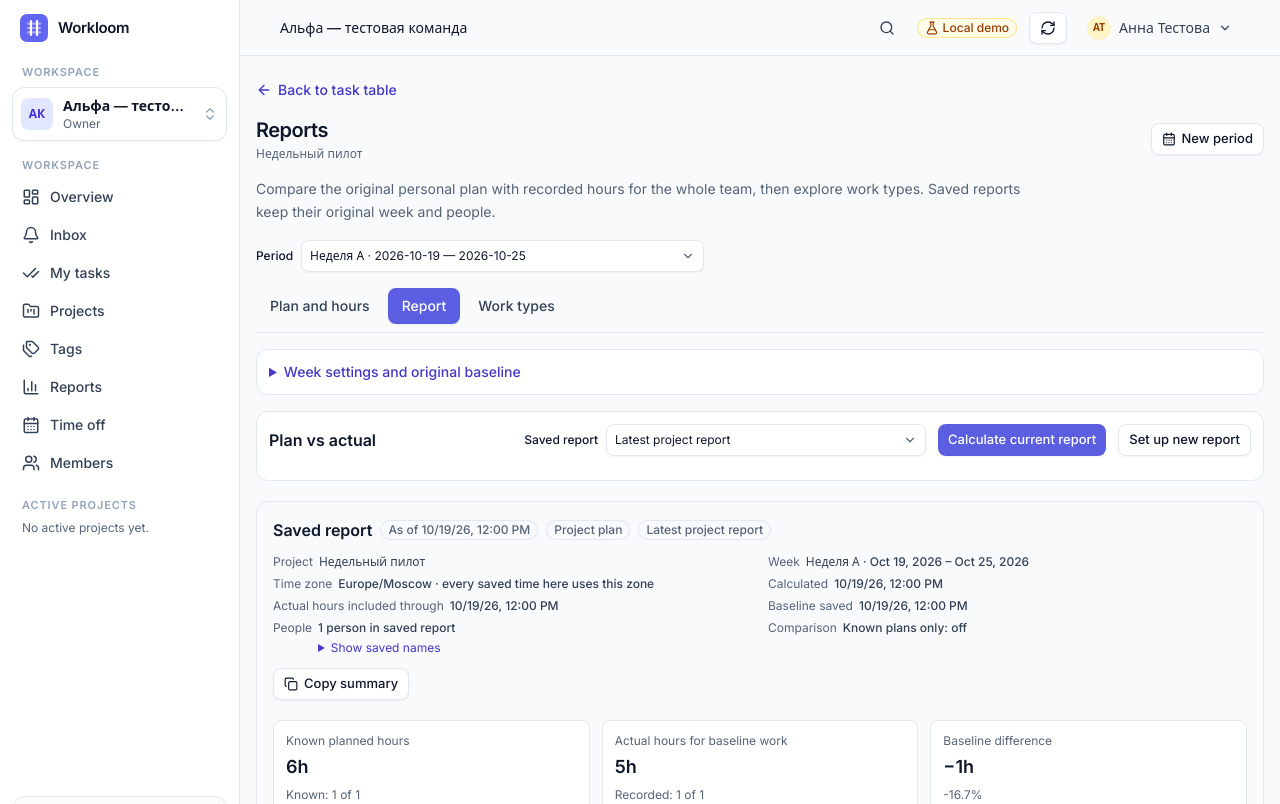
latest saved weekly report › hides the latest fallback for an unknown result, resumes without a run and retries the exact request
Check: the text "Latest project report" next to "Project plan" is shown, box [646, 522, 763, 536]
What coordinates should you click on to do the following:
click the button "Calculate current report"
I would click on:
 (1022, 440)
Its box is [938, 424, 1106, 456].
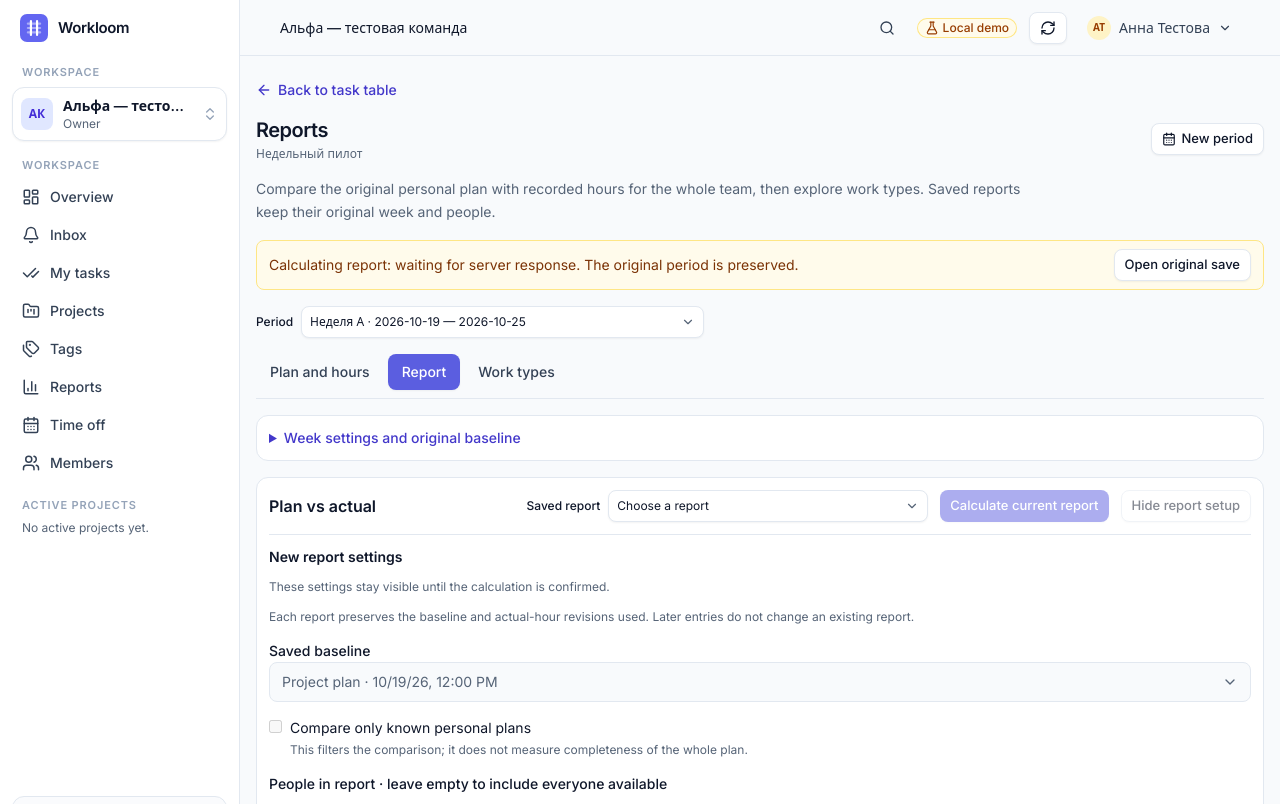
What coordinates should you click on to do the following:
click the dropdown named "Period"
I would click on:
 (503, 322)
Its box is [301, 306, 704, 338].
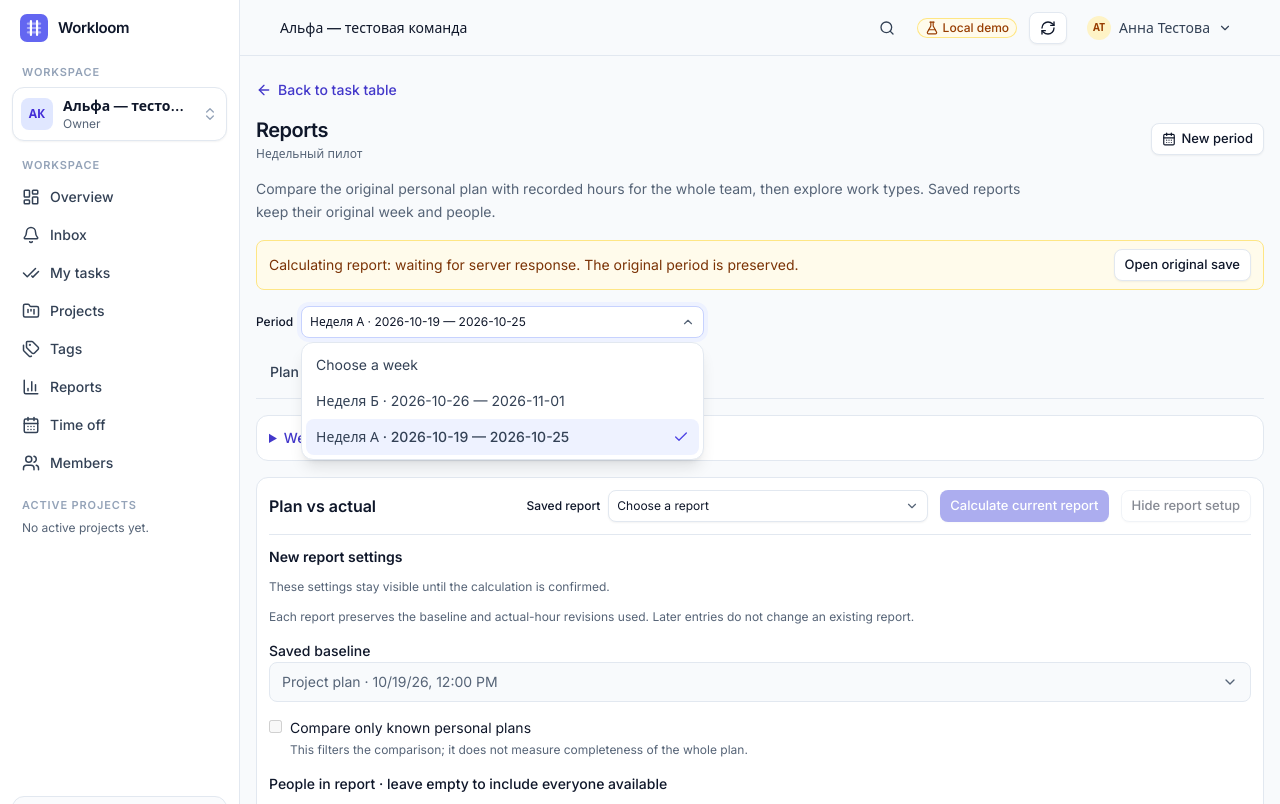
What coordinates should you click on to do the following:
click the option "Неделя Б · 2026-10-26 — 2026-11-01"
I would click on:
 (440, 400)
Its box is [316, 392, 565, 408].
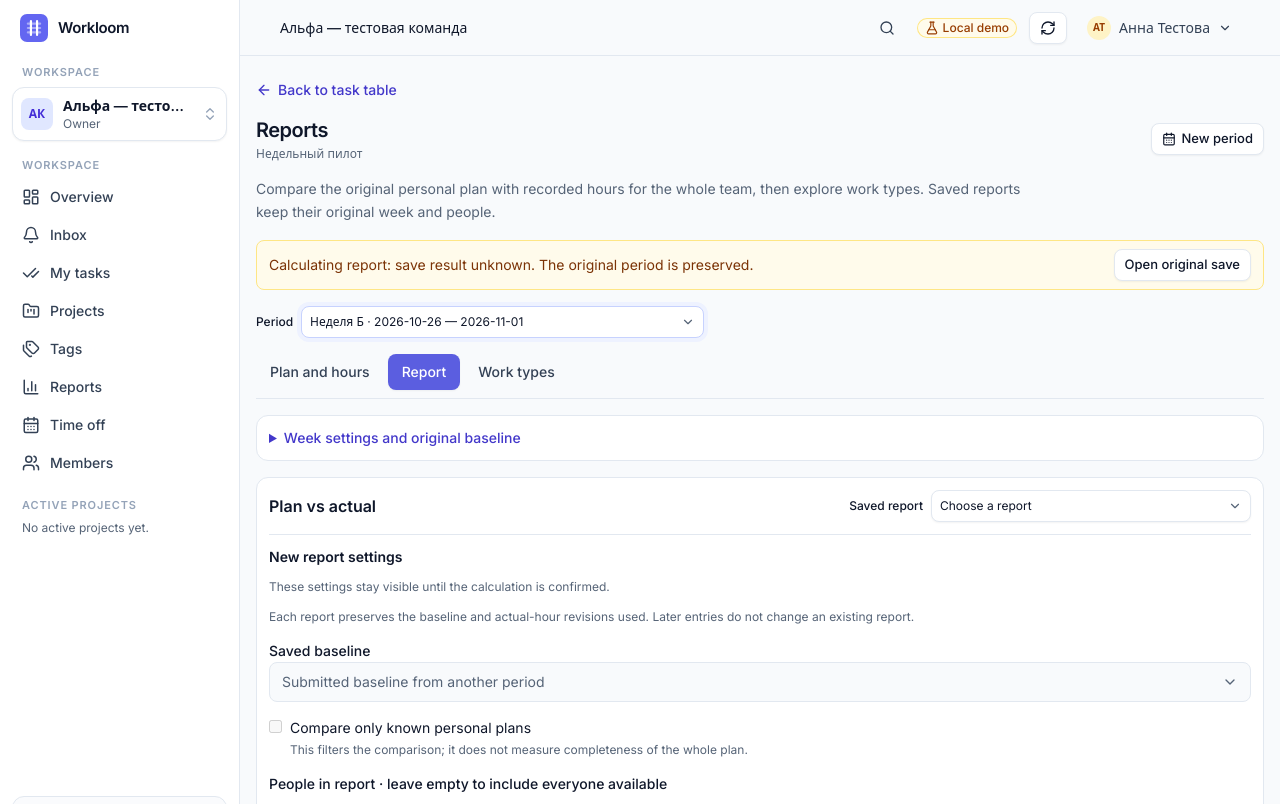
What coordinates should you click on to do the following:
click the button "Open original save"
I would click on:
 (1182, 264)
Its box is [1114, 248, 1251, 280].
(page scrolled)
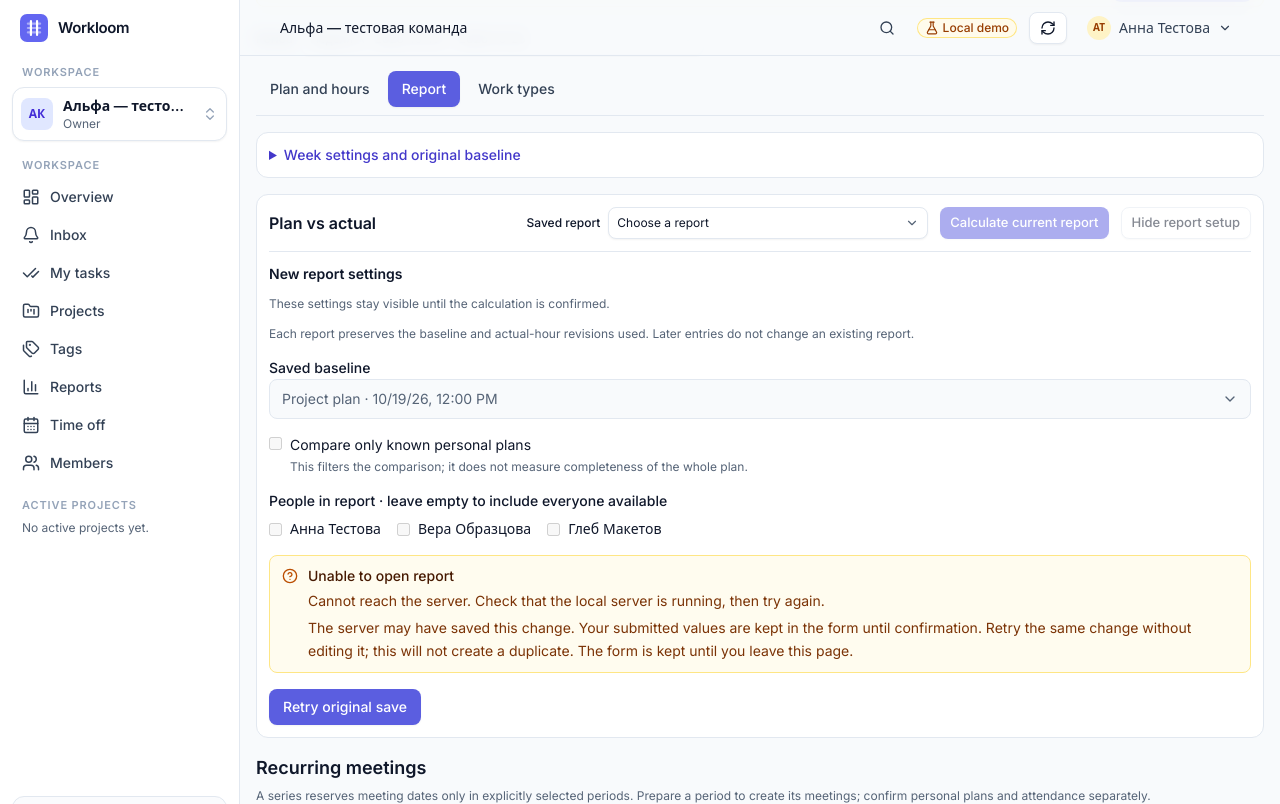
Check: the dropdown named "Saved baseline" shows "Project plan", box [269, 379, 1251, 419]
Check: the button "Calculate current report" is disabled, box [940, 206, 1108, 238]
What coordinates should you click on to do the following:
click the button "Retry original save"
I would click on:
 (345, 707)
Its box is [269, 689, 421, 725].
(page scrolled)
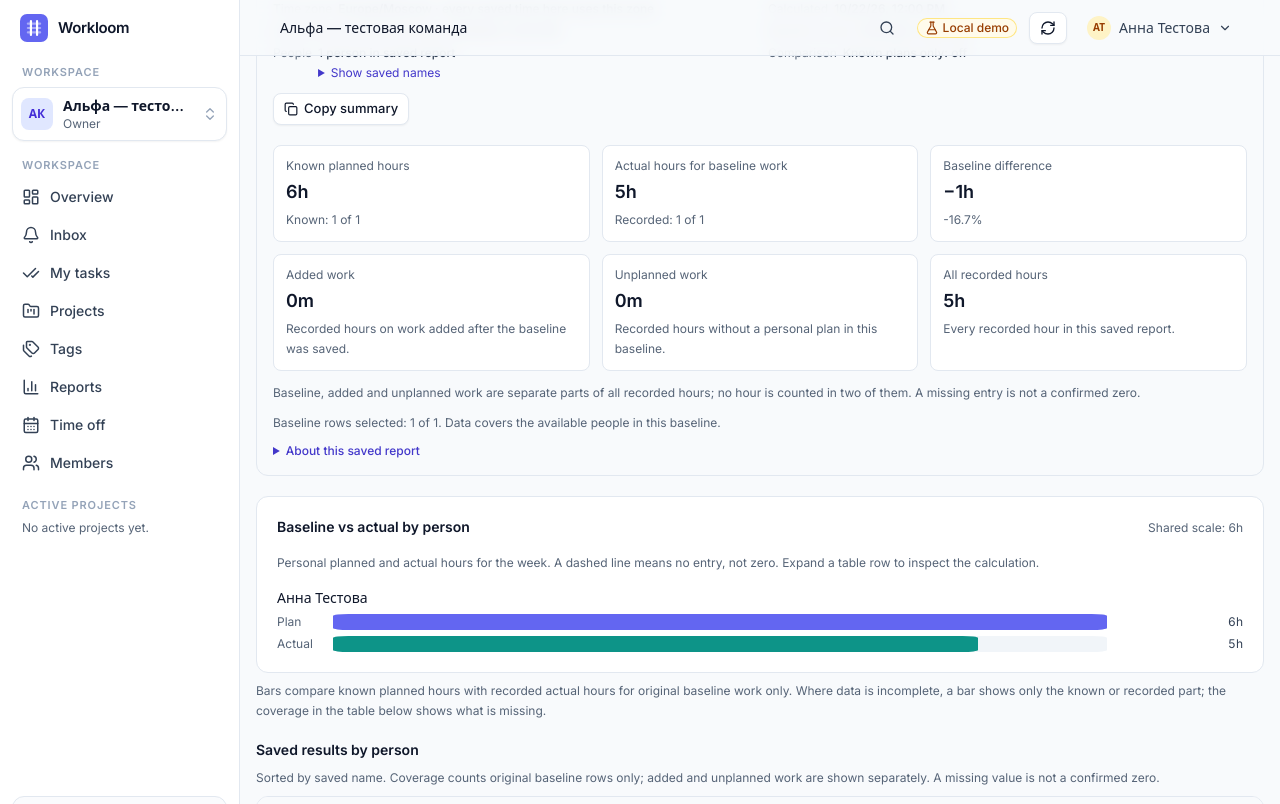
What coordinates should you click on to do the following:
click the heading "About this saved report"
I would click on:
 (346, 450)
Its box is [273, 442, 420, 458].
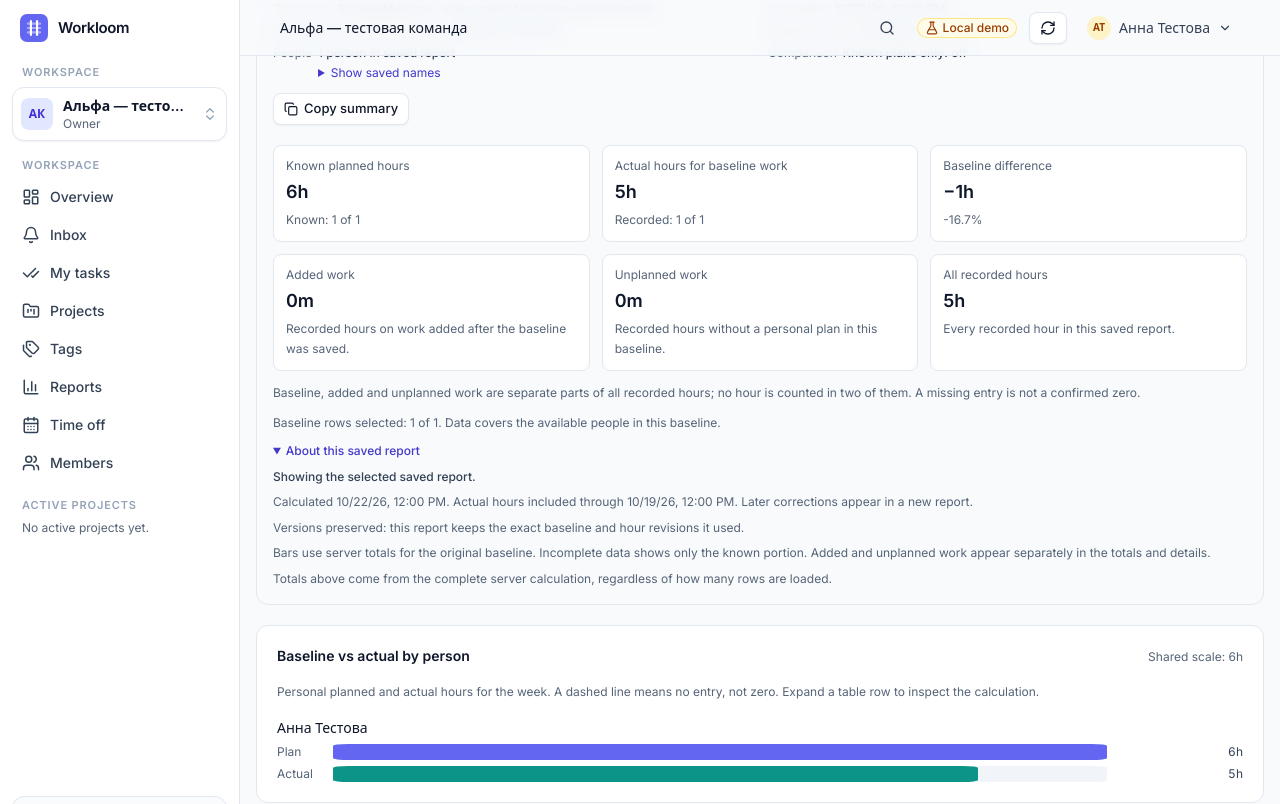
Check: the text "Showing the selected saved report." is shown, box [273, 468, 476, 484]
